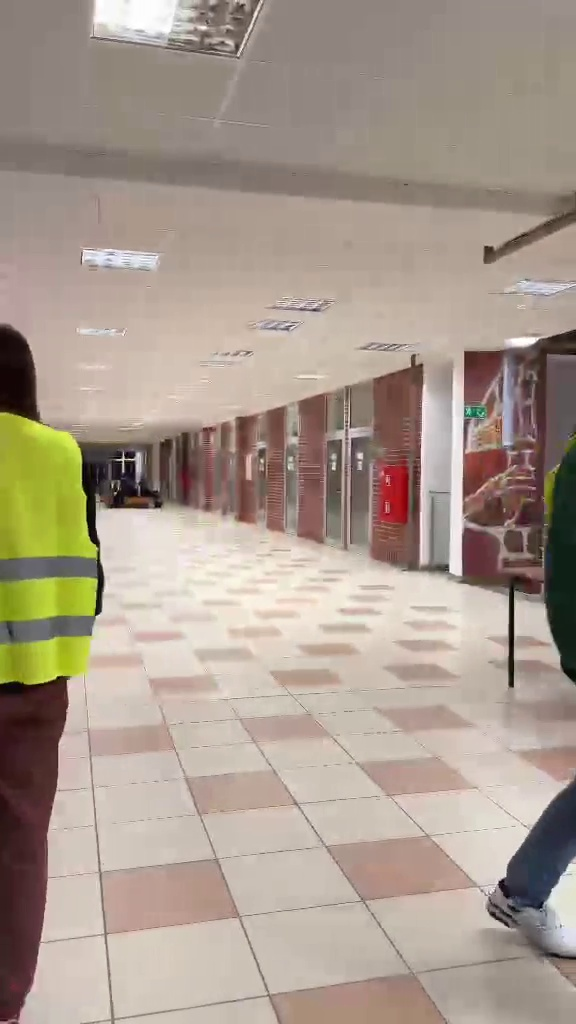vest: (0, 297, 106, 1003)
